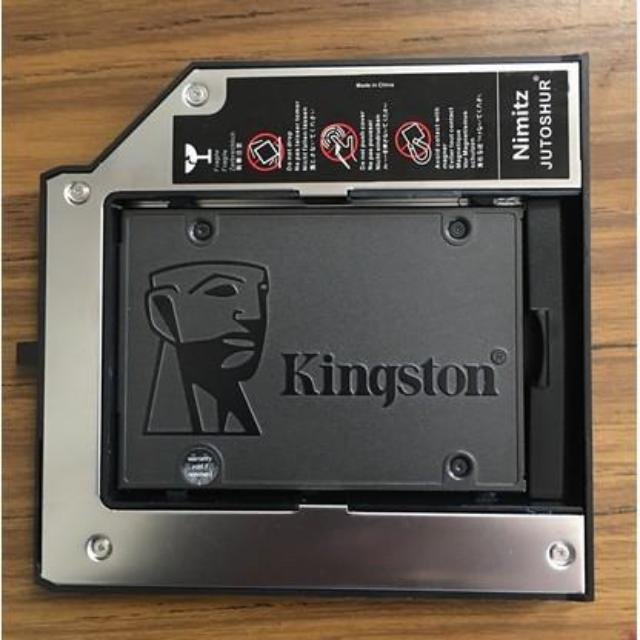DISK: (117, 205, 531, 498)
